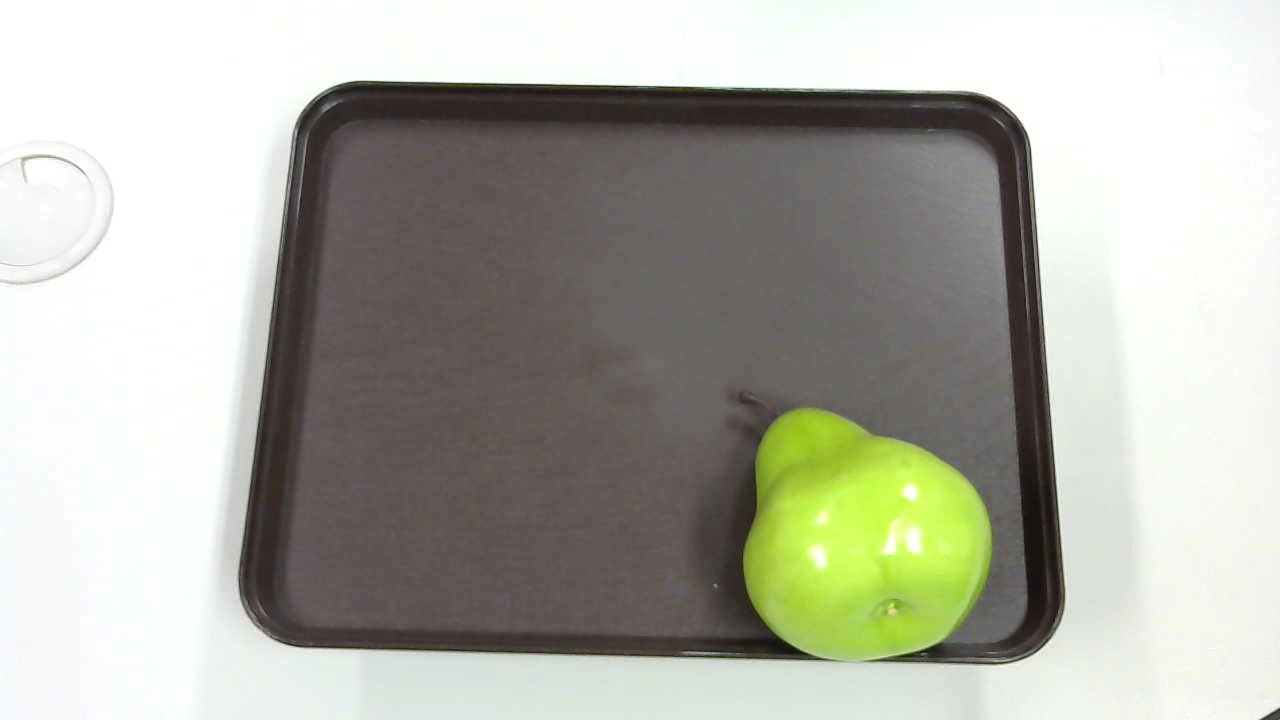green pear: (712, 378, 1003, 669)
